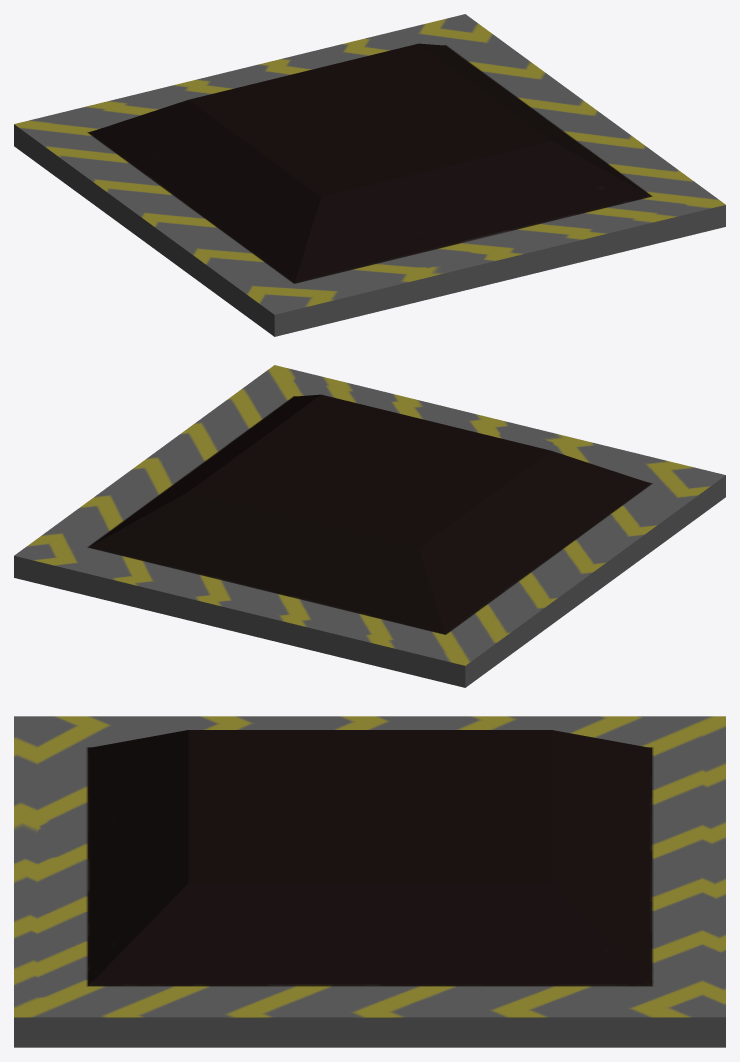
Rendered from Diningroom-emergency.glb.
The picture shows the model from 3 angles, top to bottom: view 1: azimuth 30°, elevation 25°; view 2: azimuth 150°, elevation 25°; view 3: azimuth 270°, elevation 25°; orthographic projection. The views are drawn at different scales.
Parts seen in each view (by area): view 1: Cube; view 2: Cube; view 3: Cube.
Part boxes in pixels (x1=…): Cube: x1=14, y1=14, x2=725, y2=336; Cube: x1=14, y1=365, x2=725, y2=687; Cube: x1=14, y1=716, x2=725, y2=1047.
Size of the model in its own units: 2.14 by 0.3 by 2.14.
Materials: 1 (1 with a texture image).
